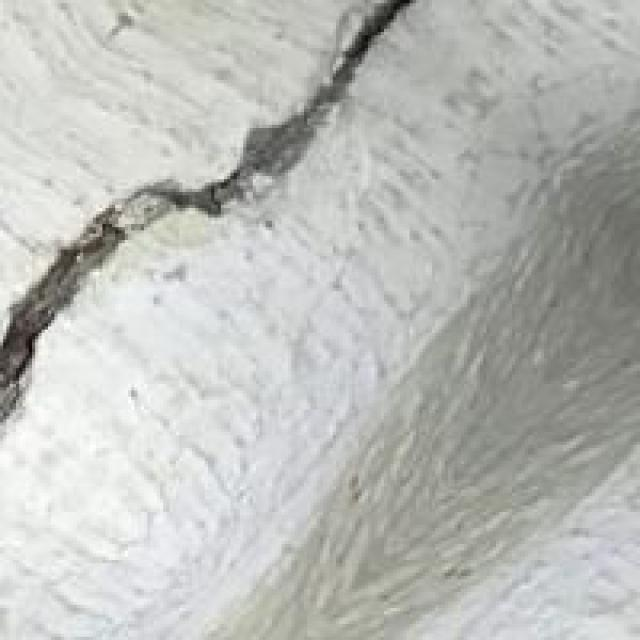crack: (4, 0, 406, 477)
